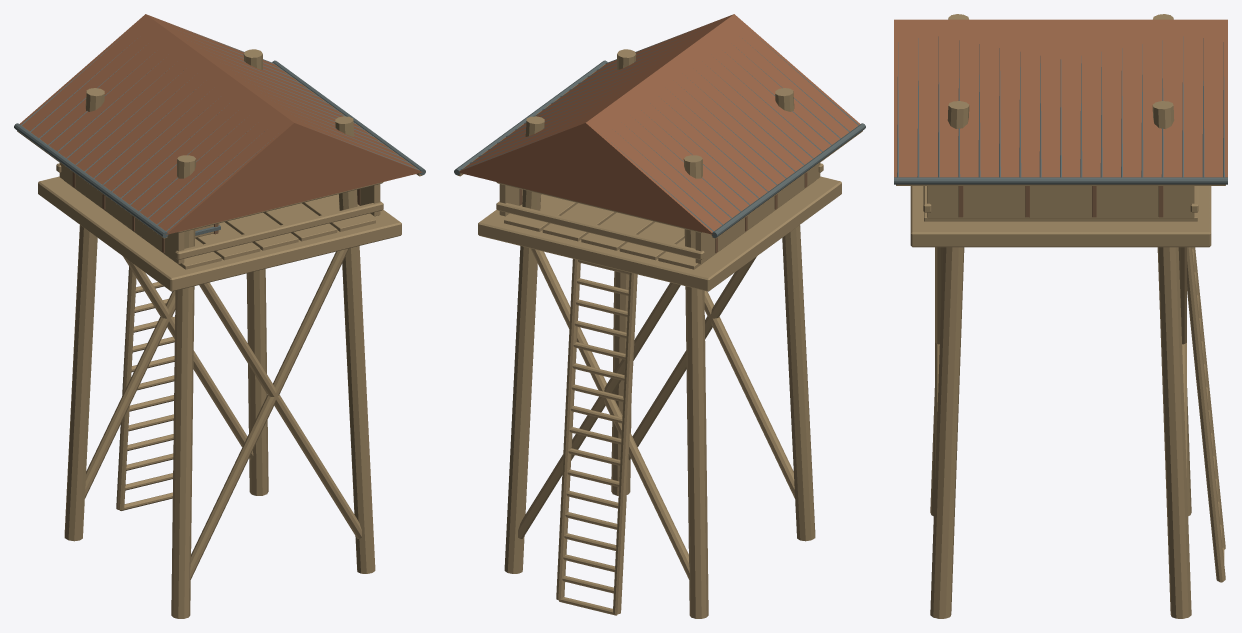
Rendered from watchtower.glb.
The picture shows the model from 3 angles, left to right: view 1: azimuth 30°, elevation 25°; view 2: azimuth 150°, elevation 25°; view 3: azimuth 270°, elevation 25°; orthographic projection. The views are drawn at different scales.
Visible parts, largest first — view 1: watchtower; view 2: watchtower; view 3: watchtower.
Part boxes in pixels (x1,y1,x2,y2): watchtower: [14, 14, 425, 618]; watchtower: [454, 14, 865, 618]; watchtower: [894, 14, 1227, 618].
Size of the model in its own units: 5.1 by 9.05 by 5.
